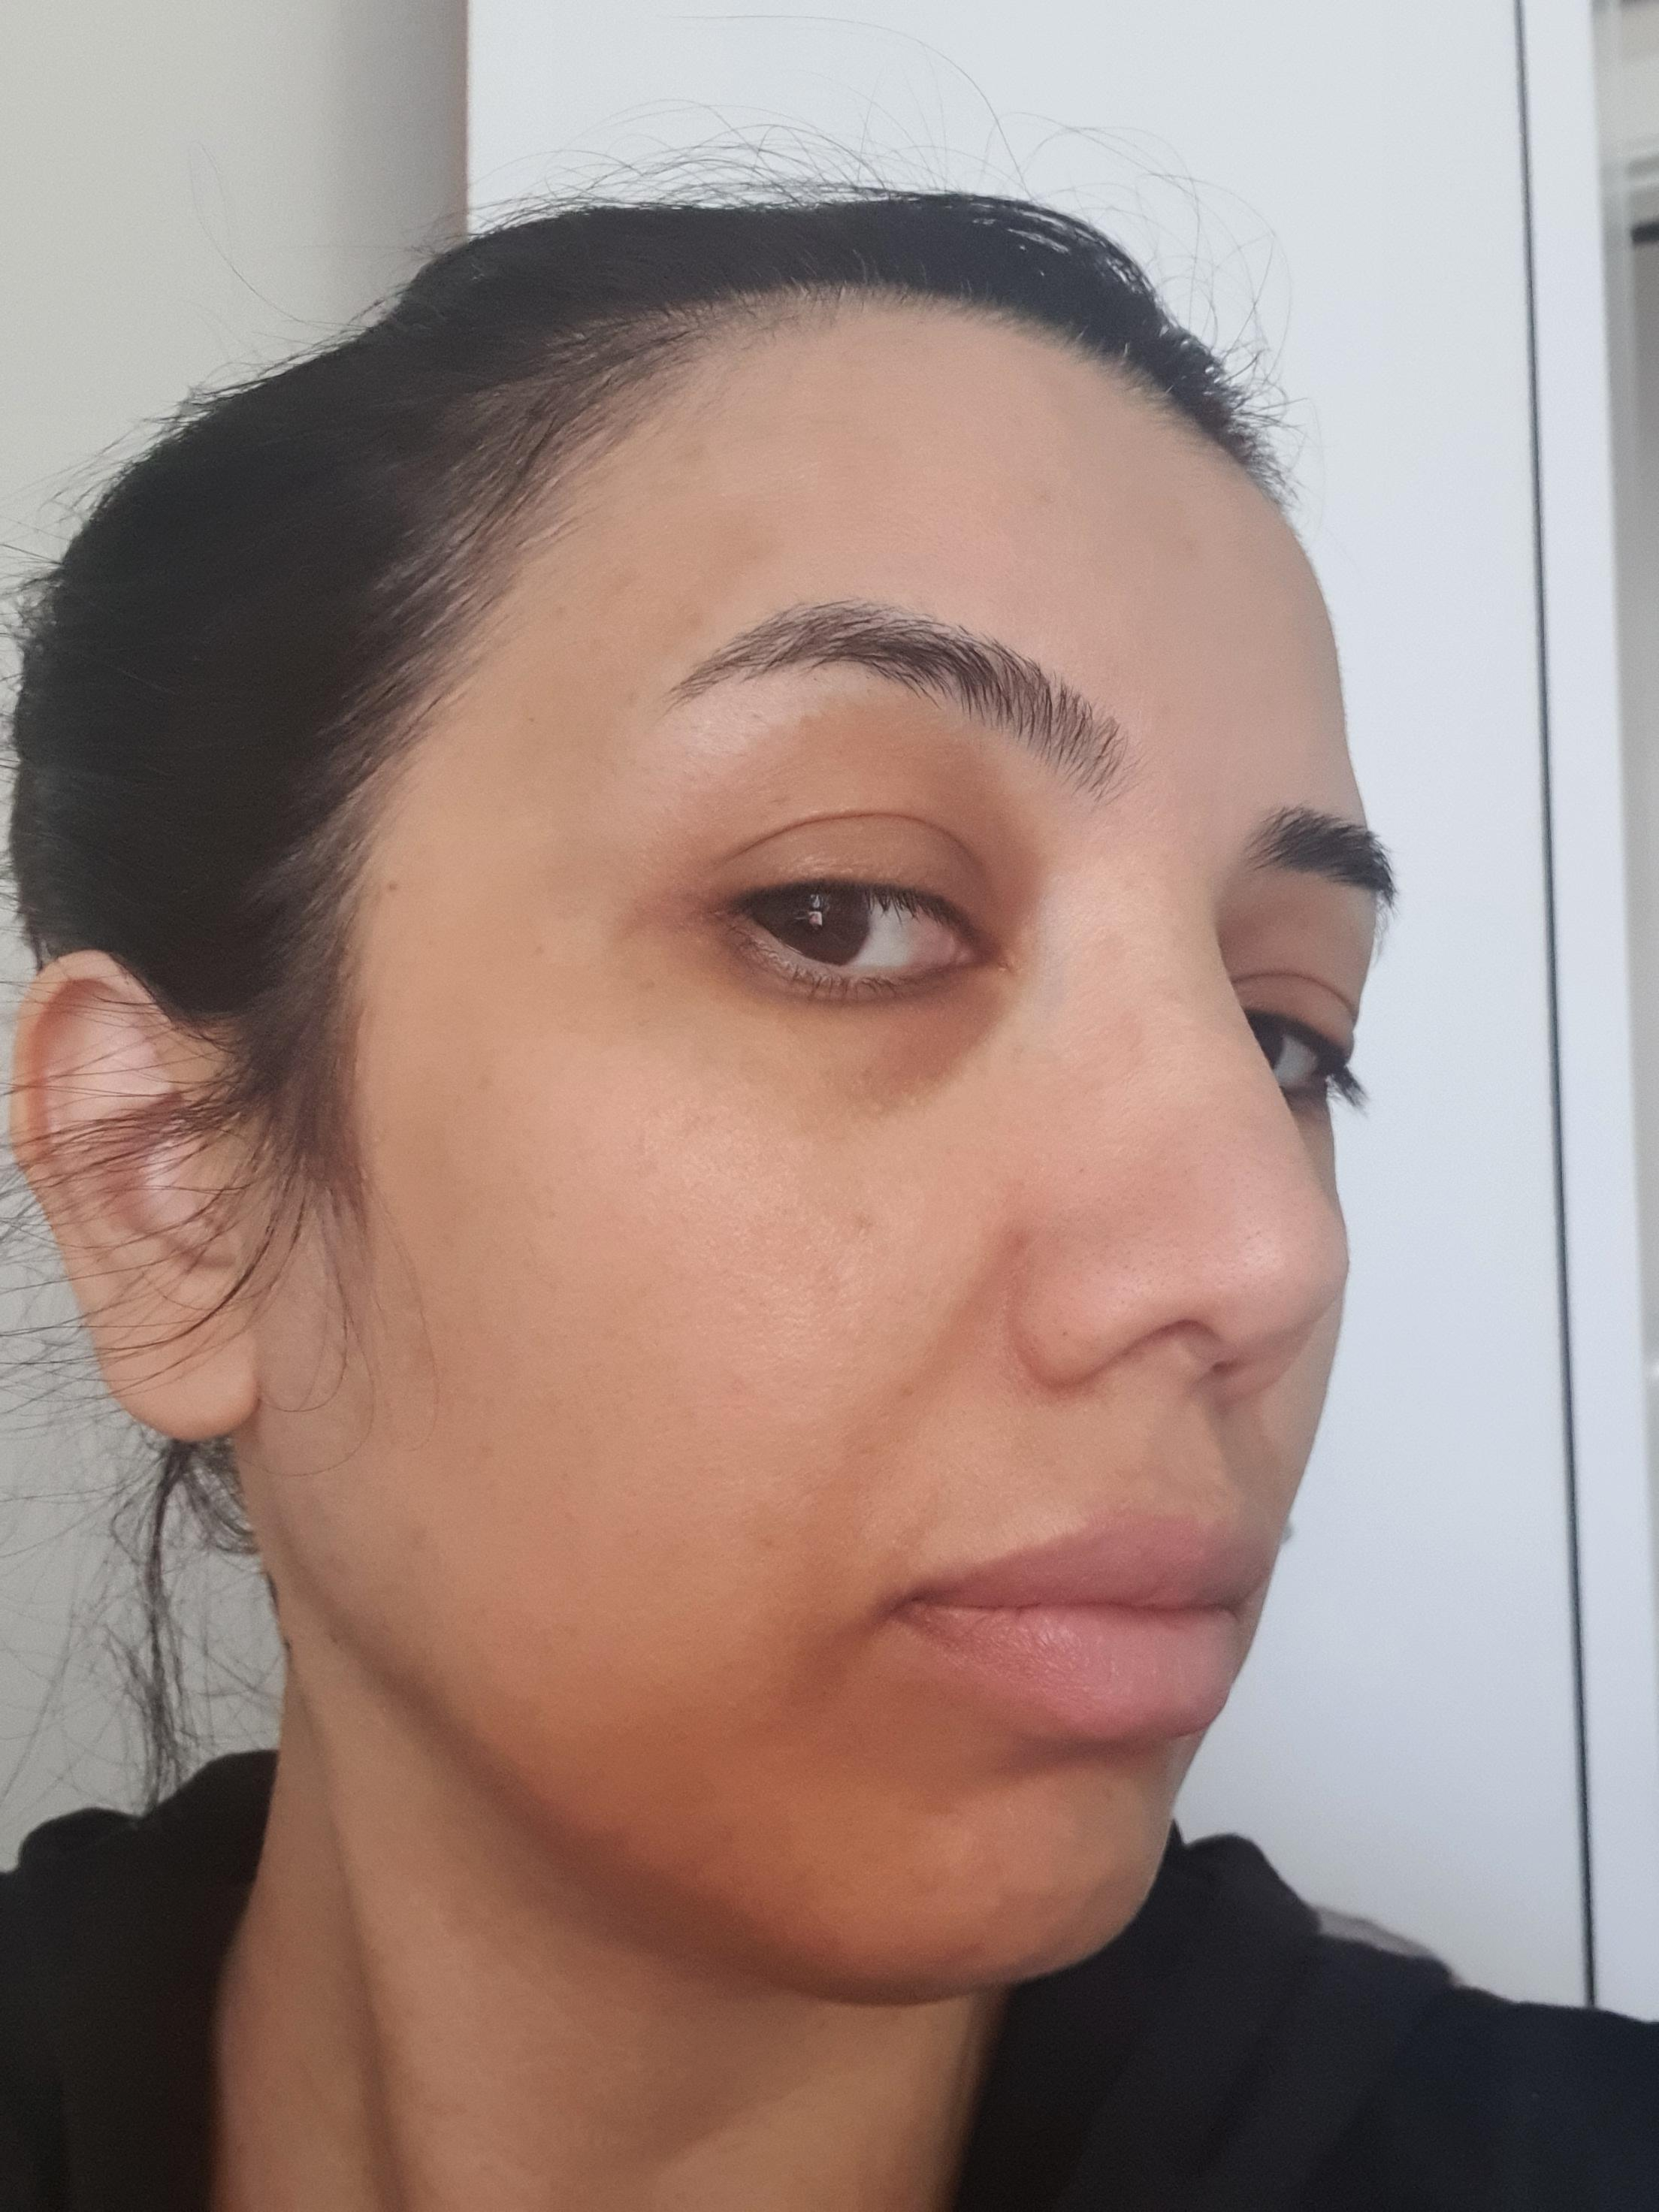Acne: (584, 1820, 647, 1876), (929, 1932, 990, 1986), (606, 564, 655, 613), (1012, 482, 1058, 523), (904, 1858, 945, 1900)
